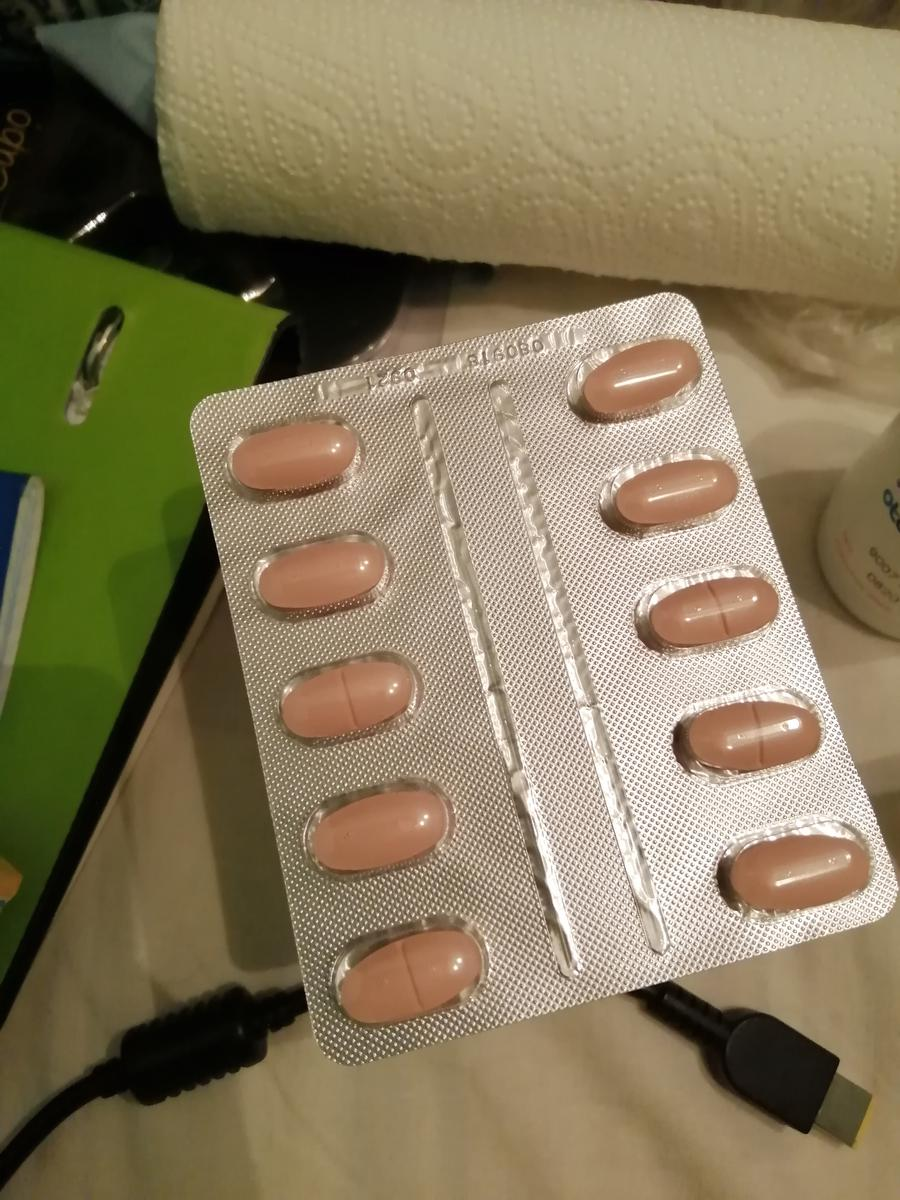tablet: (332, 918, 487, 1026), (299, 785, 453, 875), (722, 828, 872, 916), (679, 694, 824, 776), (641, 573, 787, 654), (581, 333, 706, 425), (255, 533, 387, 618), (605, 454, 746, 533), (284, 657, 415, 742), (232, 418, 362, 495)
